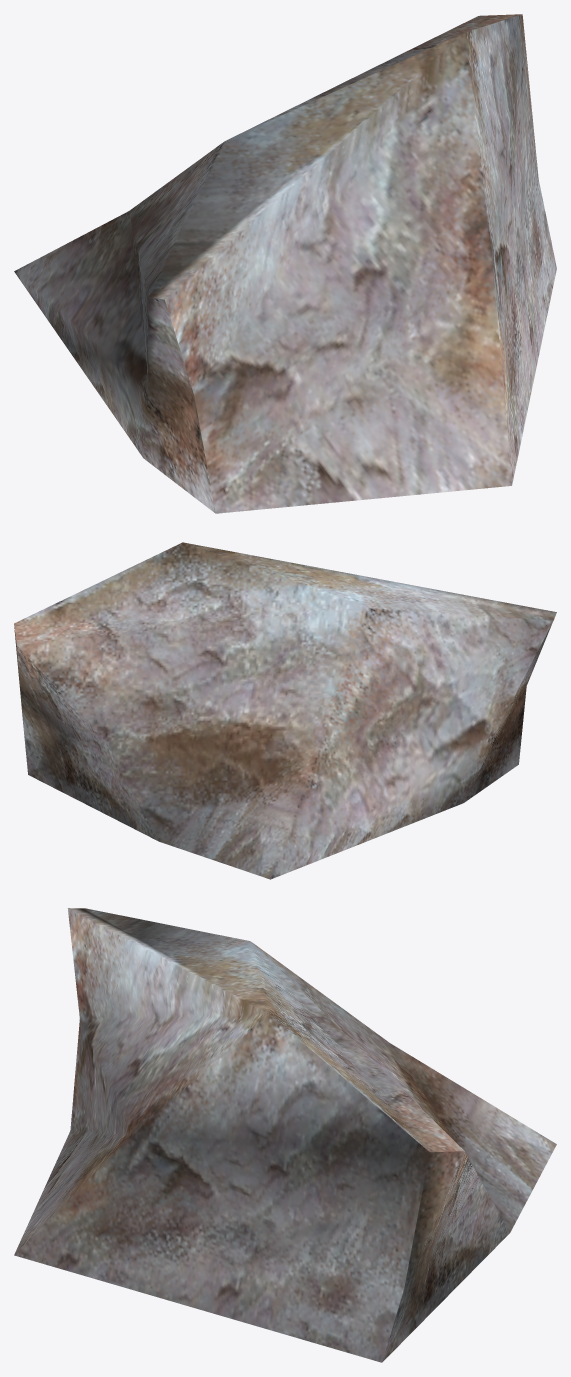
Rendered from SM_Sandstone_Rock_A_05.fbx.
The picture shows the model from 3 angles, top to bottom: view 1: azimuth 30°, elevation 25°; view 2: azimuth 150°, elevation 25°; view 3: azimuth 270°, elevation 25°; orthographic projection. The views are drawn at different scales.
Parts seen in each view (by area): view 1: SM_Sandstone_Rock_A_05; view 2: SM_Sandstone_Rock_A_05; view 3: SM_Sandstone_Rock_A_05.
Part boxes in pixels (x1,y1,x2,y2): SM_Sandstone_Rock_A_05: [14, 14, 556, 513]; SM_Sandstone_Rock_A_05: [14, 542, 556, 879]; SM_Sandstone_Rock_A_05: [14, 908, 556, 1362].
Size of the model in its own units: 112 by 59.63 by 104.
